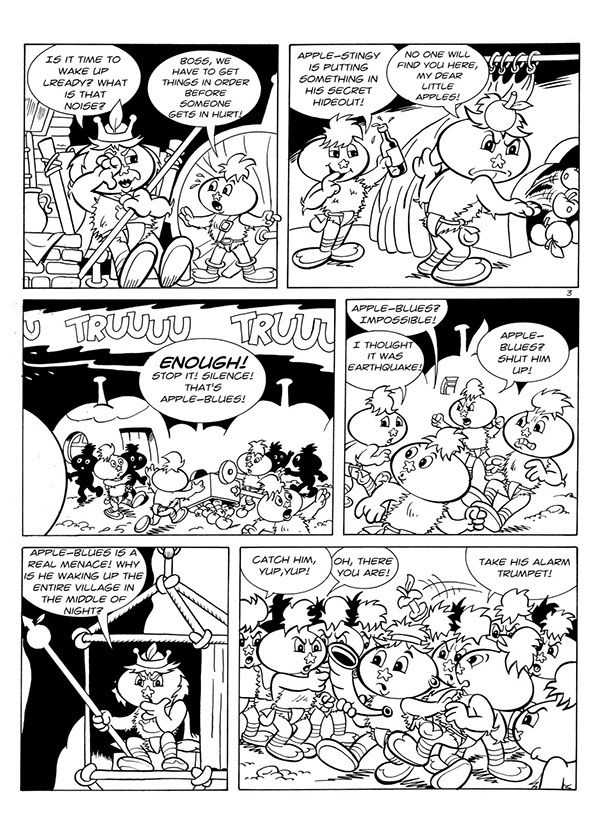bicycle: (258, 620, 347, 753)
bird: (414, 95, 555, 299), (71, 645, 242, 791), (57, 128, 185, 290), (294, 123, 414, 275), (457, 633, 551, 789), (359, 632, 445, 790), (193, 130, 276, 289), (499, 391, 580, 540), (349, 388, 407, 534), (390, 441, 476, 536), (514, 685, 570, 792), (439, 379, 495, 475), (148, 458, 205, 546), (226, 440, 276, 504), (95, 438, 133, 521), (262, 495, 320, 539)
